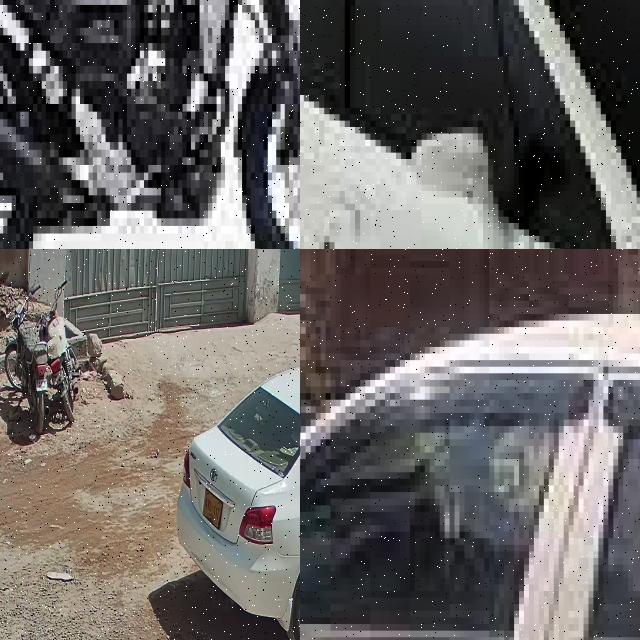bike: (0, 0, 300, 249), (4, 284, 50, 432), (37, 280, 78, 422)
car: (300, 294, 640, 640), (300, 0, 640, 249), (176, 363, 300, 640)
